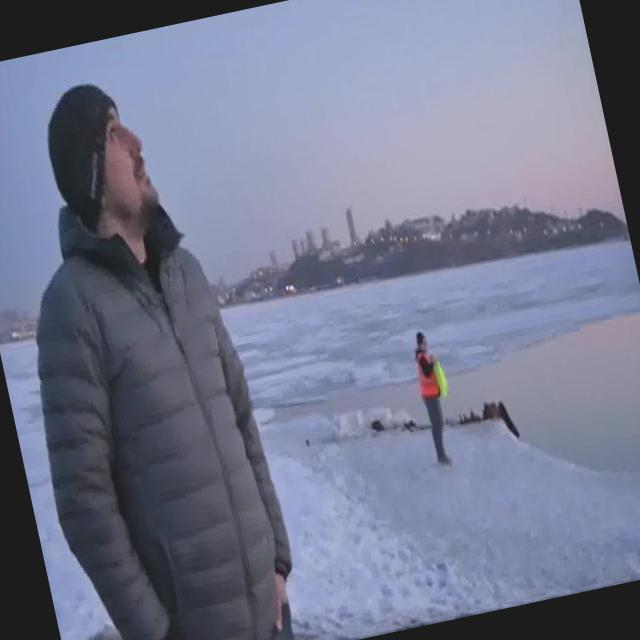no-helmet: (36, 54, 190, 262)
no-vest: (22, 245, 290, 638)
vest: (412, 348, 442, 402), (432, 357, 450, 398)
